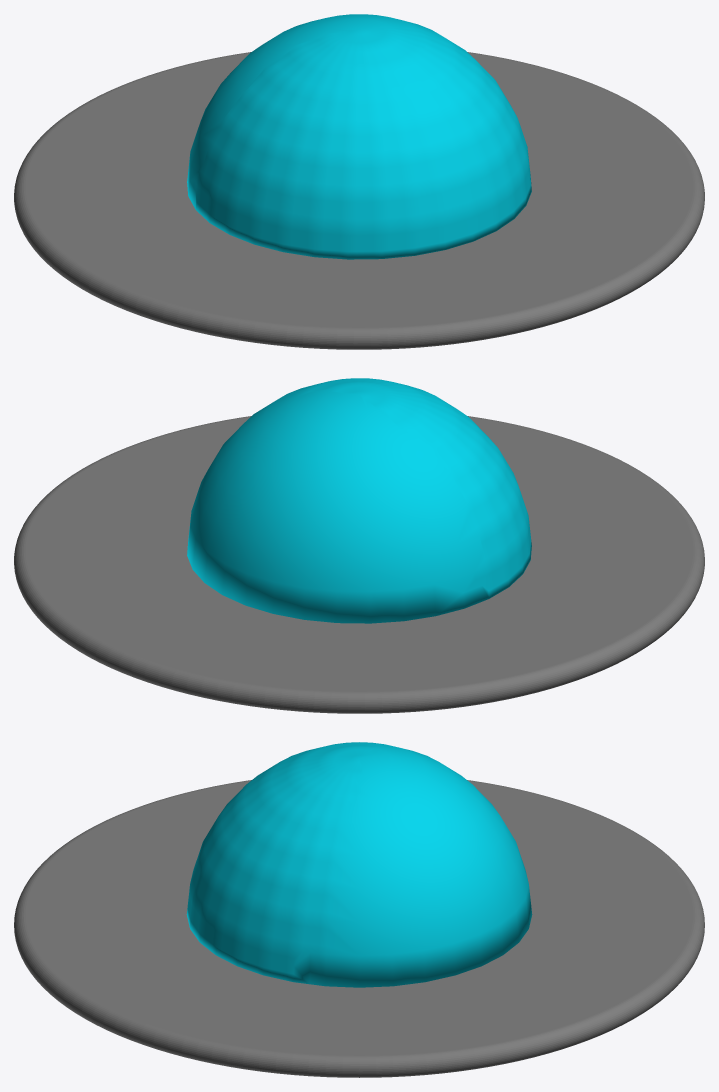
Rendered from UFO.fbx.
3 views of the same model, one above another, from view 1: azimuth 30°, elevation 25°; view 2: azimuth 150°, elevation 25°; view 3: azimuth 270°, elevation 25° (orthographic).
Parts seen in each view (by area): view 1: UFO_001; view 2: UFO_001; view 3: UFO_001.
Part boxes in pixels (x1,y1,x2,y2): UFO_001: [14, 14, 704, 349]; UFO_001: [14, 378, 704, 713]; UFO_001: [14, 742, 704, 1077].
Size of the model in its own units: 3000 by 1053 by 3000.
